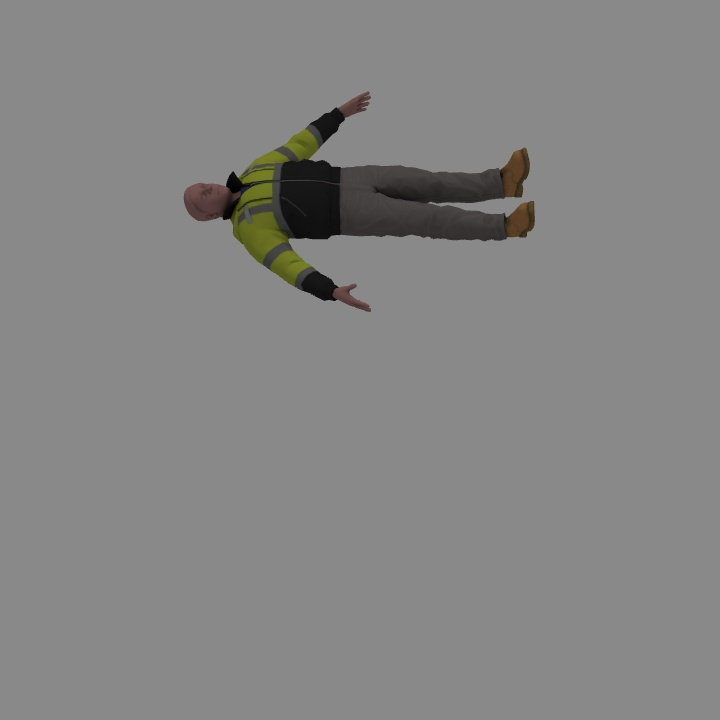victim: (184, 91, 535, 312)
